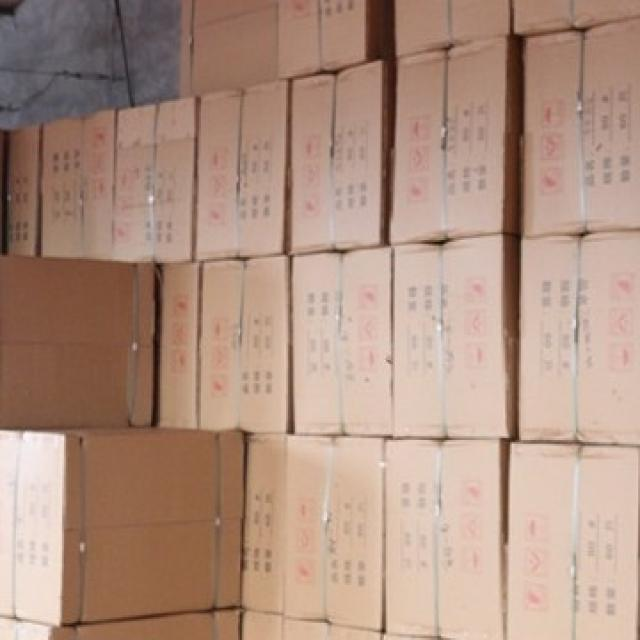box: (12, 424, 244, 623), (500, 442, 638, 638), (391, 231, 519, 441), (0, 254, 153, 429), (389, 46, 524, 241), (380, 436, 509, 638), (520, 227, 638, 444), (518, 34, 638, 237), (284, 60, 396, 254), (284, 432, 383, 631), (291, 243, 392, 435), (195, 79, 292, 260), (197, 253, 292, 432), (113, 96, 198, 262), (40, 108, 117, 254), (176, 1, 279, 95), (280, 3, 395, 79), (242, 430, 289, 611), (394, 1, 512, 67), (154, 260, 200, 427), (13, 605, 247, 637), (511, 2, 638, 47), (1, 122, 41, 253), (1, 427, 22, 616), (281, 613, 383, 638), (243, 610, 284, 638), (381, 630, 498, 638), (3, 615, 14, 638)
